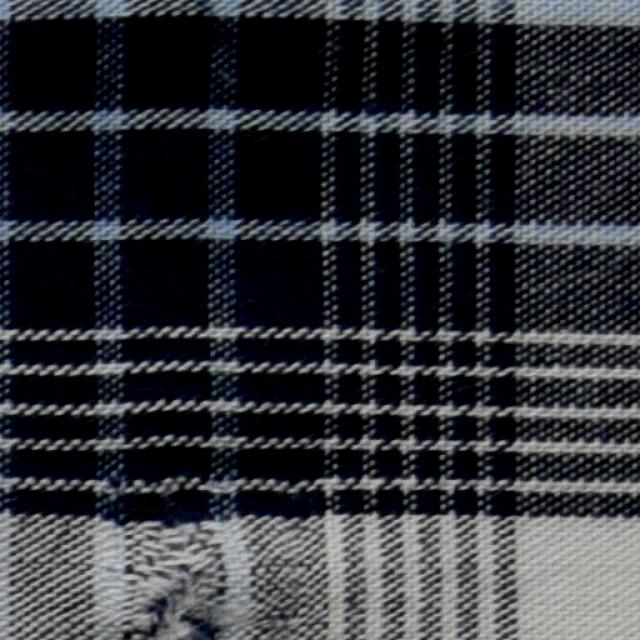Snag: (118, 542, 224, 639)
